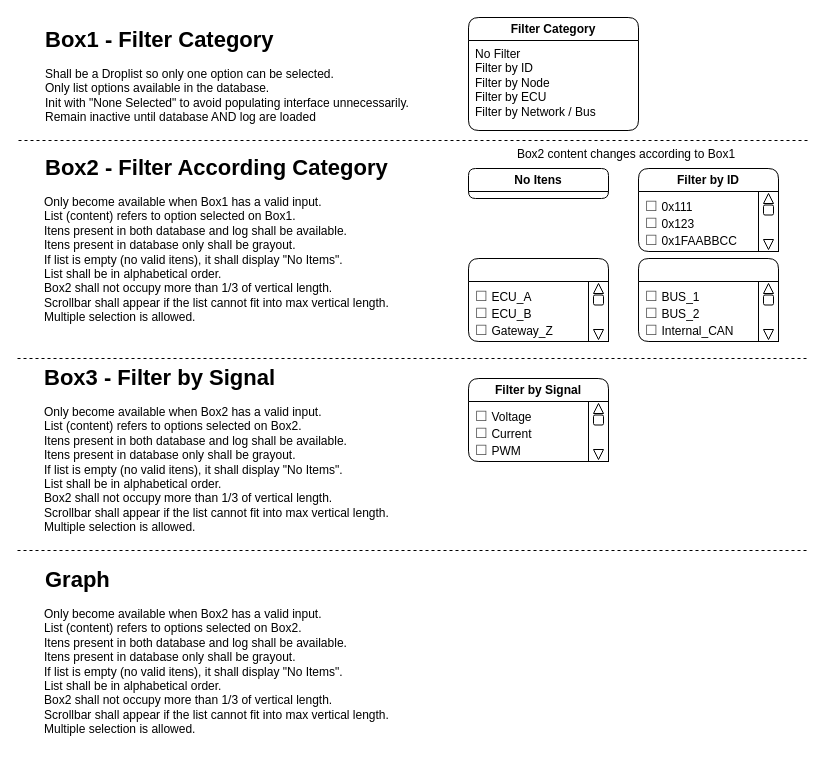
This 827x758 diagram has some shape labels left out. The box of each missing label's shape, as (x1, y1, x2, y2) in pixels:
Filter by ECU: (468, 258, 608, 342)
Filter by Network: (638, 258, 778, 342)
